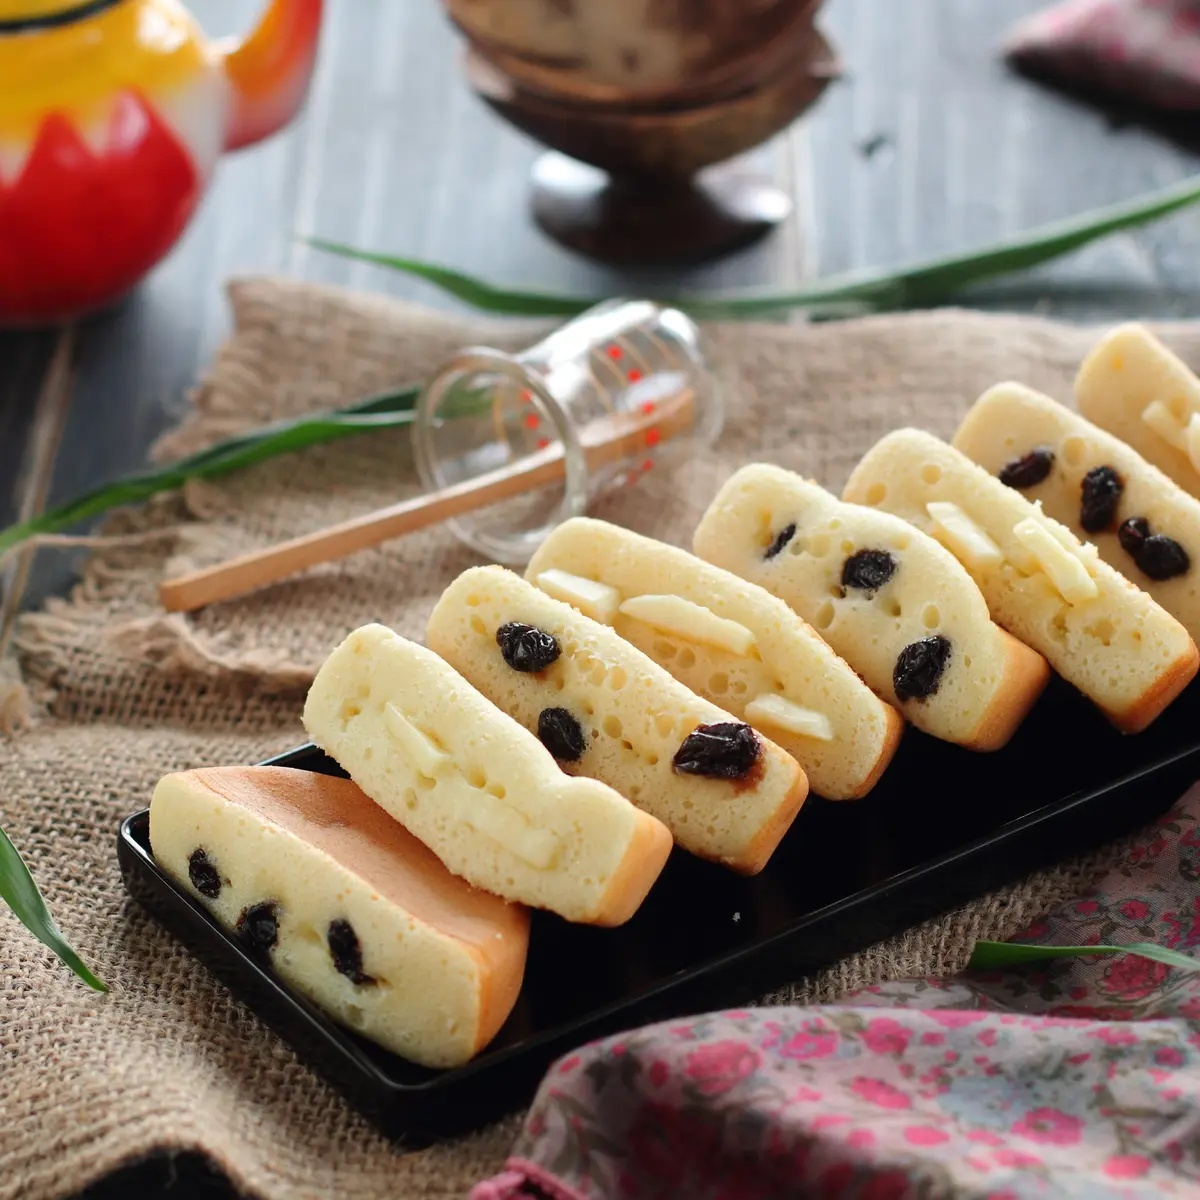pukis: (135, 711, 547, 1062)
